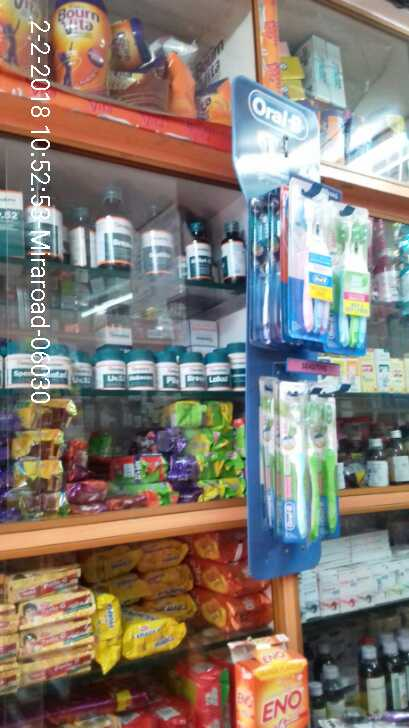oralb: (283, 192, 335, 342), (335, 209, 375, 346), (277, 390, 311, 542), (316, 385, 349, 539)
